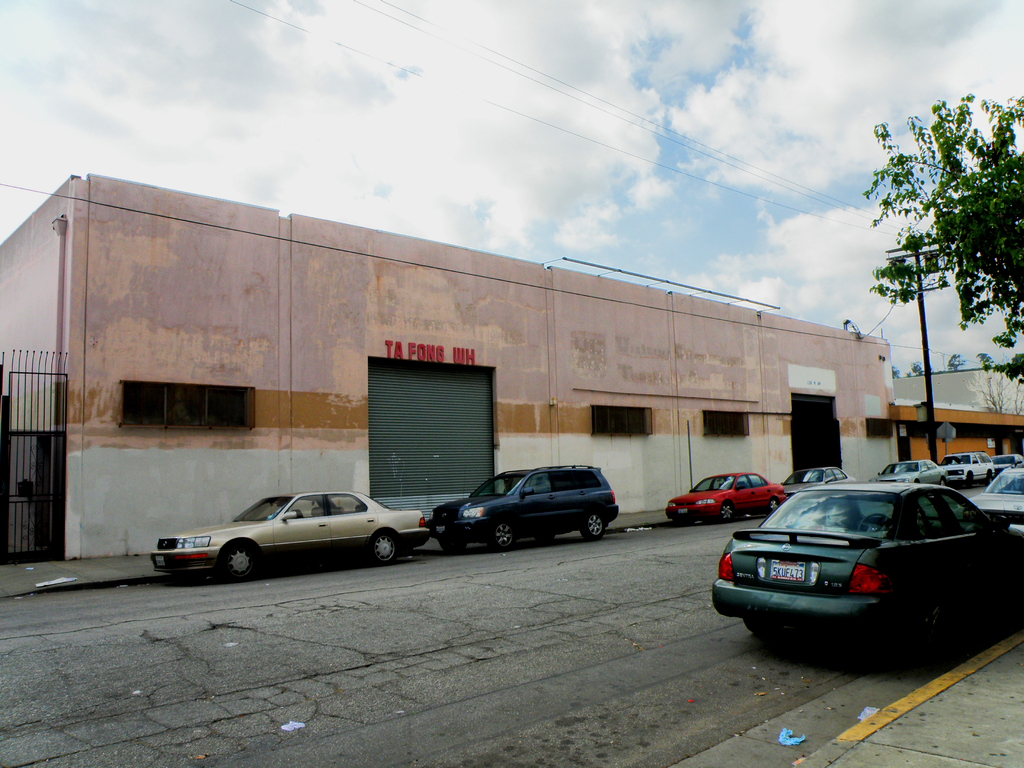Car: (147, 449, 1022, 582), (710, 481, 1023, 661), (153, 489, 427, 576), (431, 464, 618, 547), (665, 469, 784, 524), (953, 451, 1023, 525), (784, 464, 849, 494), (947, 449, 999, 484), (872, 460, 944, 484), (995, 456, 1020, 469)
